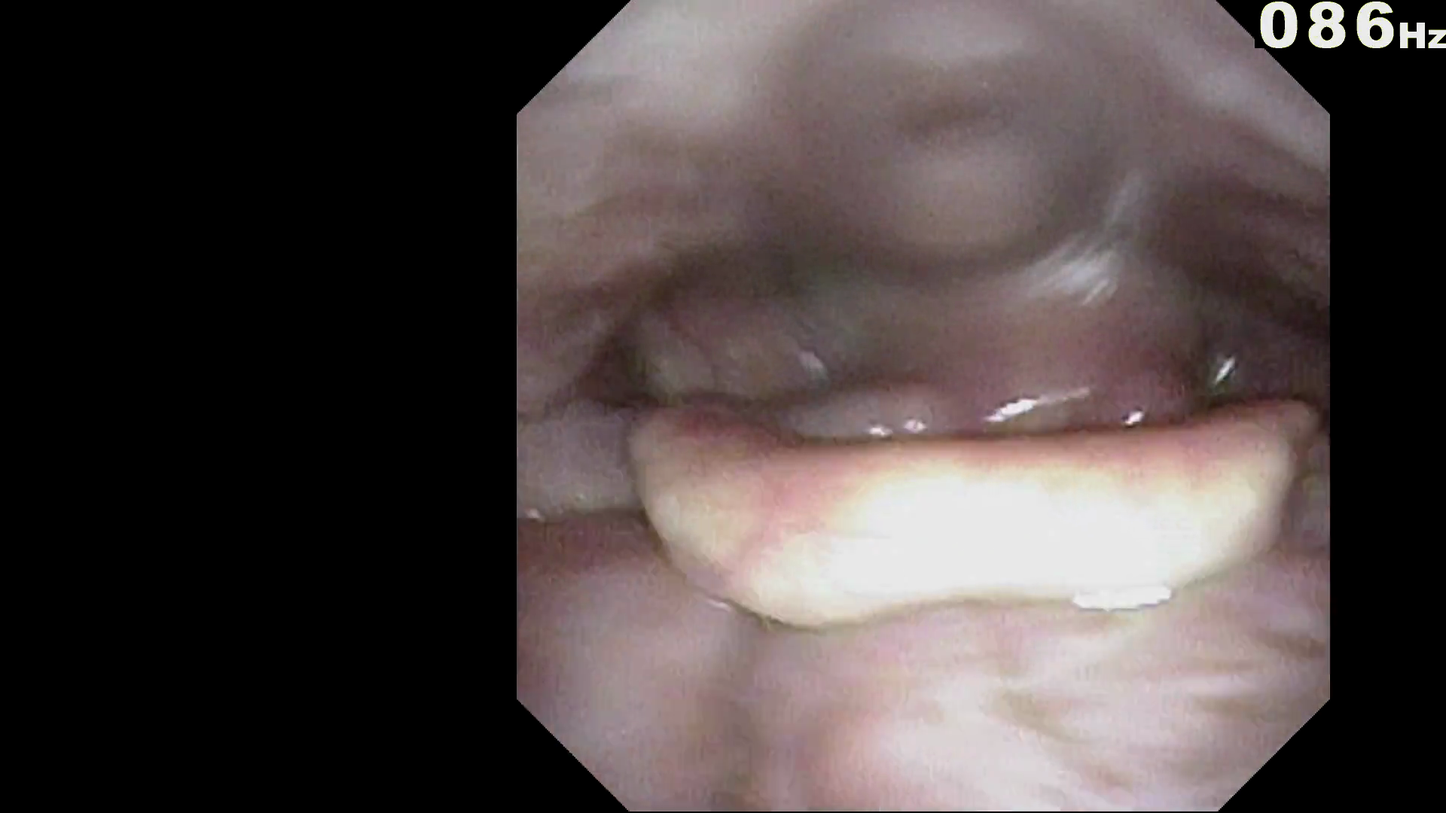epiglottis: (651, 399, 1266, 624)
trachea: (936, 494, 1082, 608)
